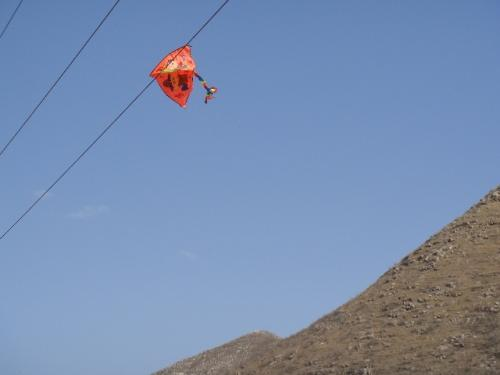kite: (144, 41, 223, 108)
